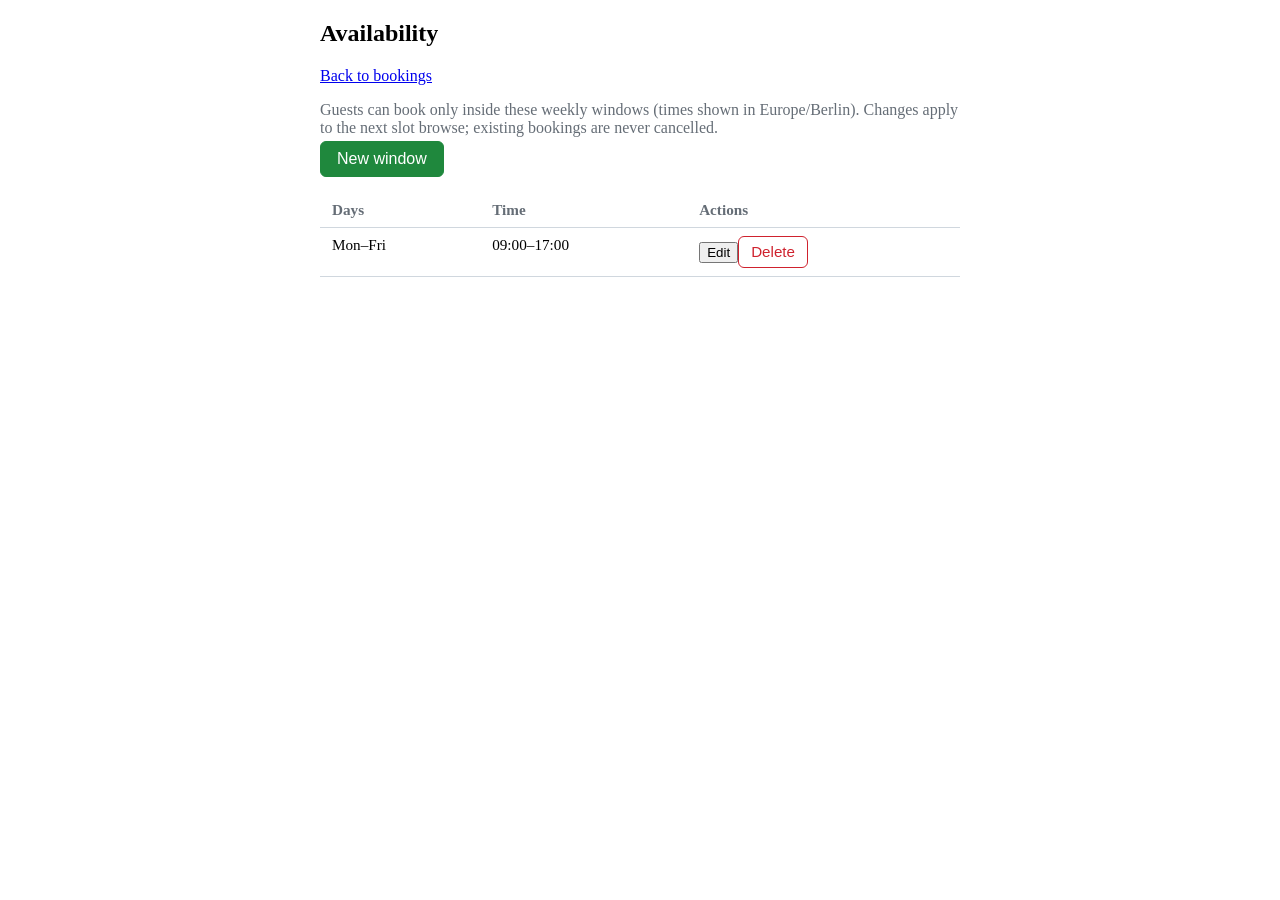
Test: HostAvailabilityPage › deletes only after confirming in the dialog
Expected: the text "Mon–Fri" is shown, 320,227 -> 480,276
Click the button "Delete".
click(773, 252)  # box 738,236 -> 808,268
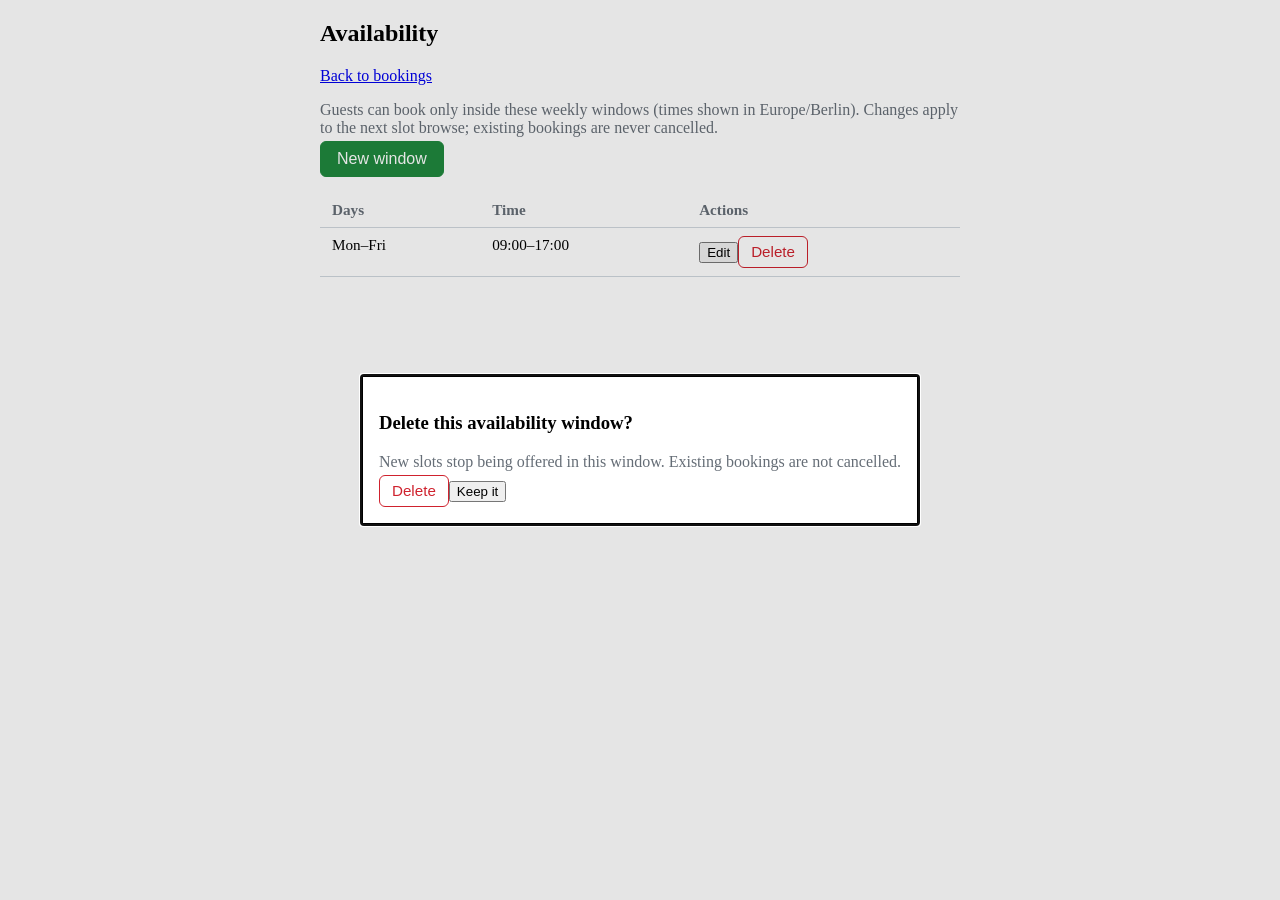
Expected: the text "Existing bookings are not cancelled" is shown, 379,453 -> 901,470
Expected: the text "Delete this availability window?" is shown, 379,412 -> 633,433
Click the button "Delete".
click(414, 491)  # box 379,475 -> 449,507
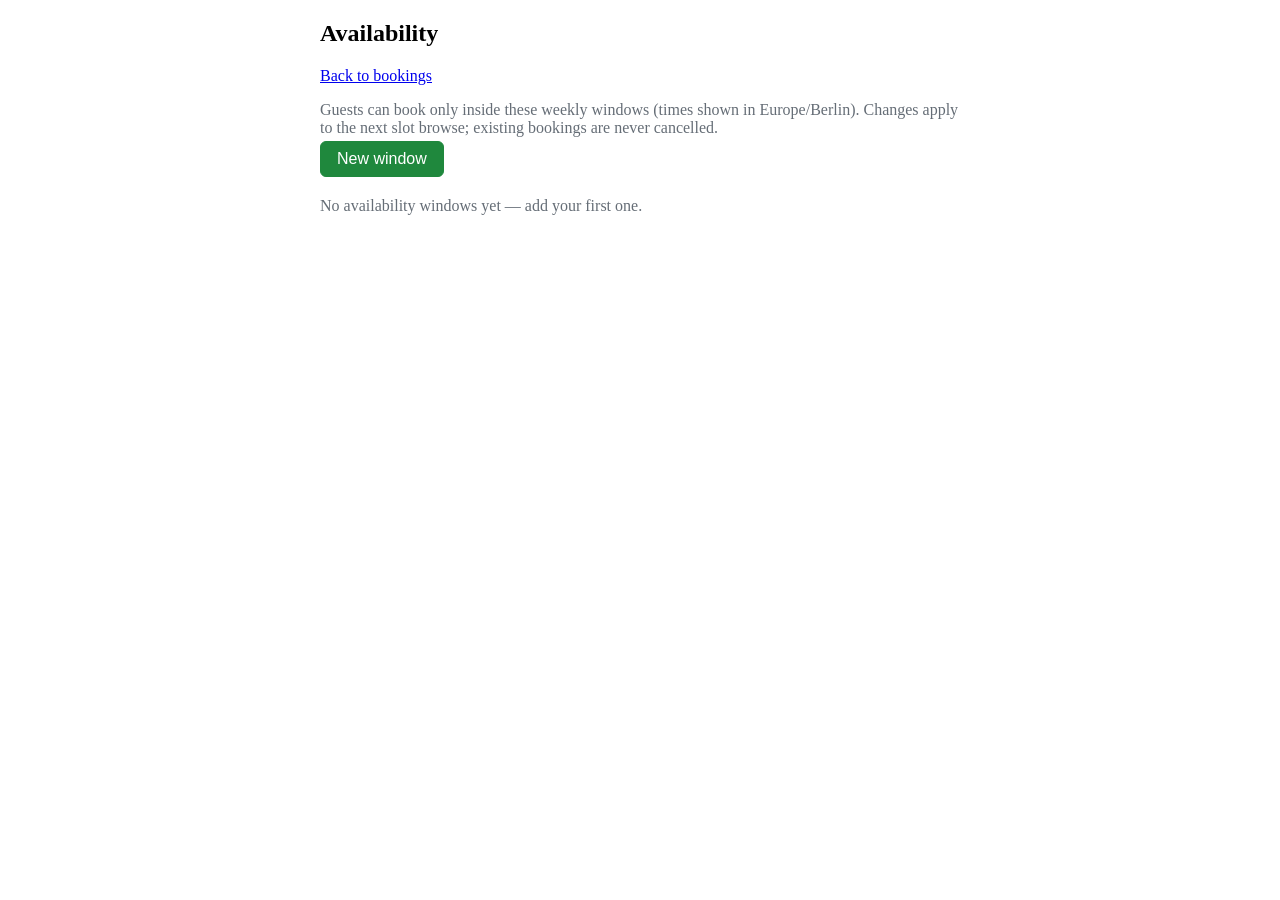
Expected: the text "No availability windows yet — add your first one." is shown, 320,197 -> 642,214
